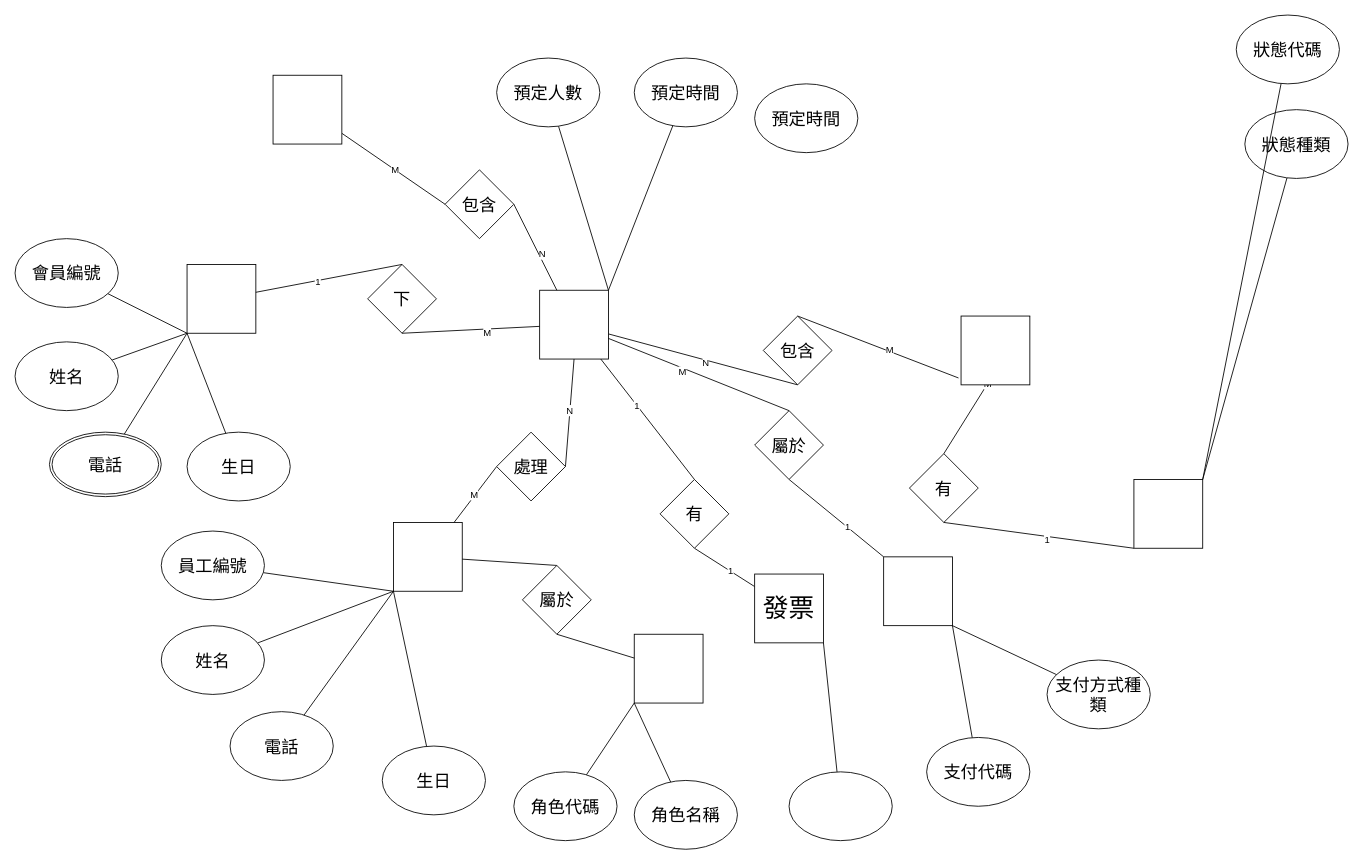
Some shapes in this 1363 by 864 pixel diagram are drawn without their labels. Here are the shapes that lost their labels. From the top down, the centre of each, then its label:
pixel 307 109: 餐點
pixel 221 298: 會員
pixel 573 324: 訂單
pixel 995 350: 店面
pixel 1168 513: 店面狀態
pixel 427 556: 員工
pixel 917 591: 支付方式
pixel 668 668: 人員 角色
pixel 840 806: 發票號碼
